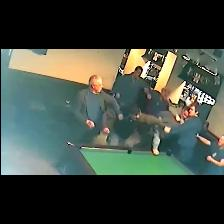person: (75, 76, 123, 142), (164, 103, 202, 165), (196, 134, 223, 174)
